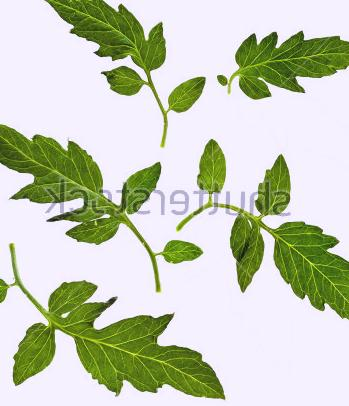Tomato leaf: (0, 242, 229, 406), (186, 135, 349, 333), (32, 0, 198, 187), (0, 113, 162, 283), (209, 23, 349, 112)
